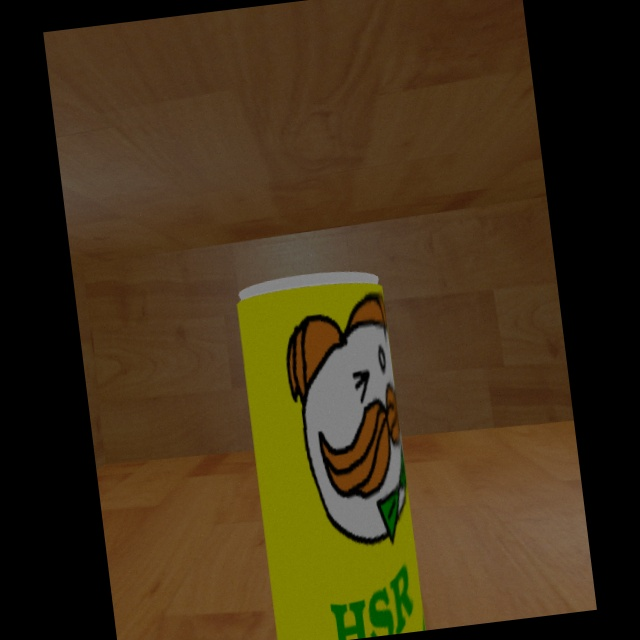chipsdose_gelb: (236, 272, 427, 640)
